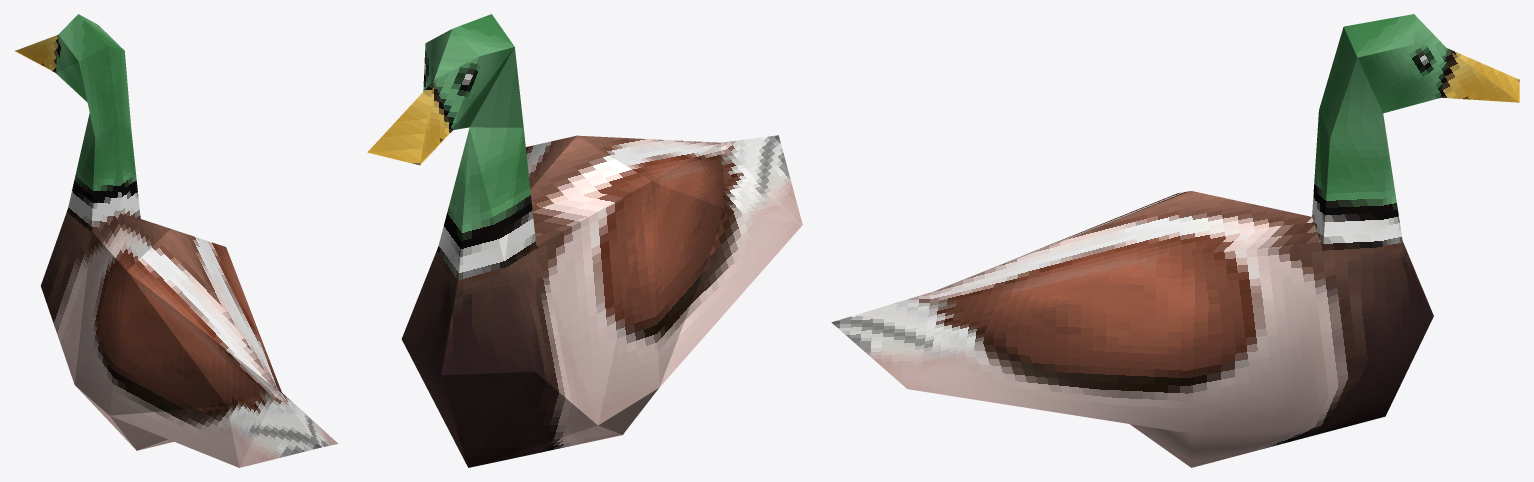
File: Critter_Duck.FBX
The picture shows the model from 3 angles, left to right: view 1: azimuth 30°, elevation 25°; view 2: azimuth 150°, elevation 25°; view 3: azimuth 270°, elevation 25°; orthographic projection. The views are drawn at different scales.
Parts seen in each view (by area): view 1: critter_duck; view 2: critter_duck; view 3: critter_duck.
Part boxes in pixels (box(x1,y1,x2,y2)): critter_duck: box(15, 14, 338, 467); critter_duck: box(367, 14, 802, 467); critter_duck: box(831, 14, 1519, 467).
Size of the model in its own units: 44.72 by 126 by 181.
